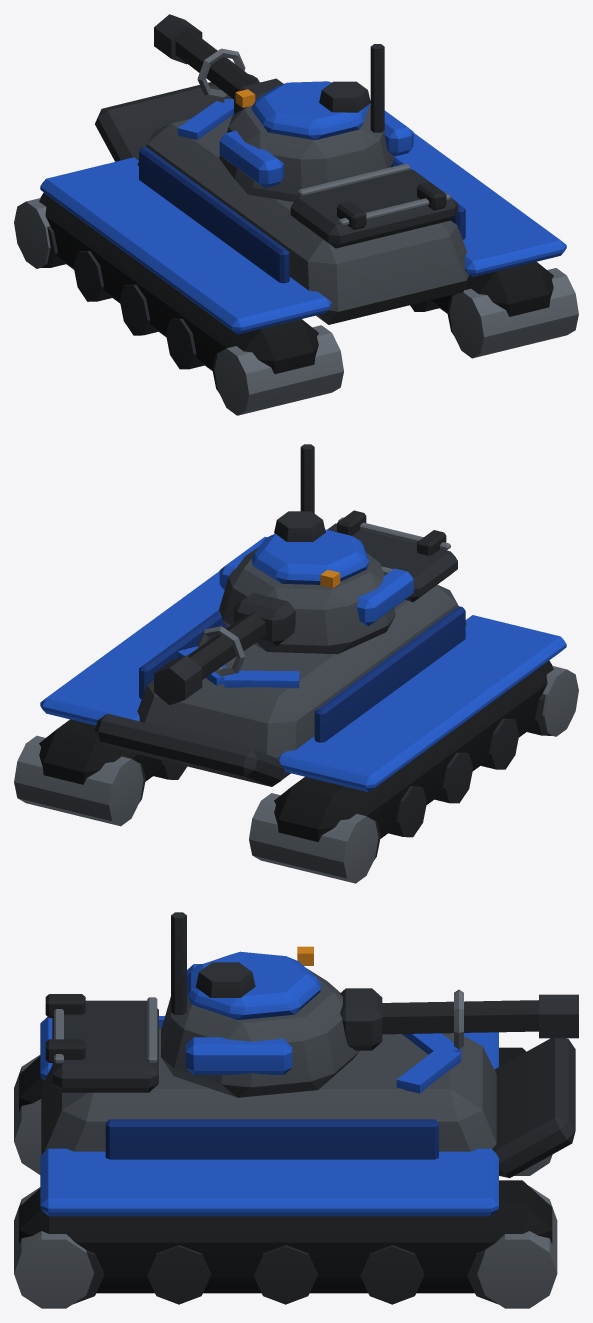
File: stinger.glb
3 renders of one model, top to bottom at view 1: azimuth 30°, elevation 25°; view 2: azimuth 150°, elevation 25°; view 3: azimuth 270°, elevation 25°, orthographic. The views are drawn at different scales.
Parts seen in each view (by area): view 1: hull, turret; view 2: hull, turret; view 3: hull, turret.
Boxes of the visible parts, x1,y1,x2,y2 form: hull: [14, 74, 578, 415]; turret: [154, 14, 413, 201]; hull: [14, 510, 578, 883]; turret: [154, 444, 413, 705]; hull: [14, 994, 575, 1308]; turret: [161, 912, 578, 1097].
Bounding box in the file's own units: 0.67 × 0.53 × 0.8475.
